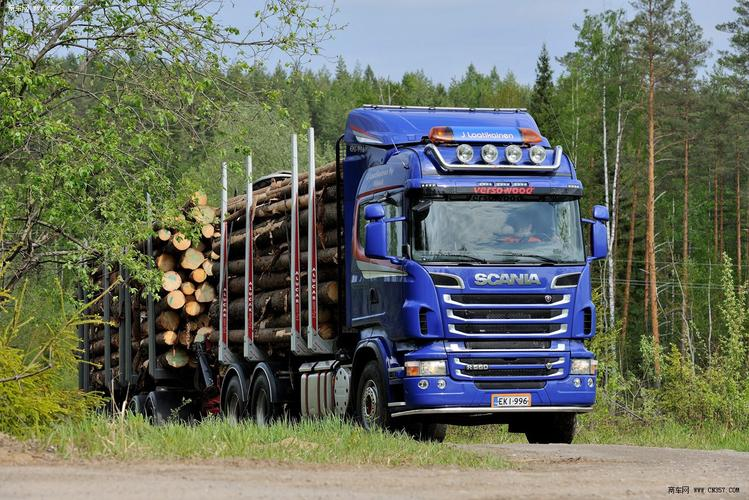卡车: (75, 99, 619, 443)
